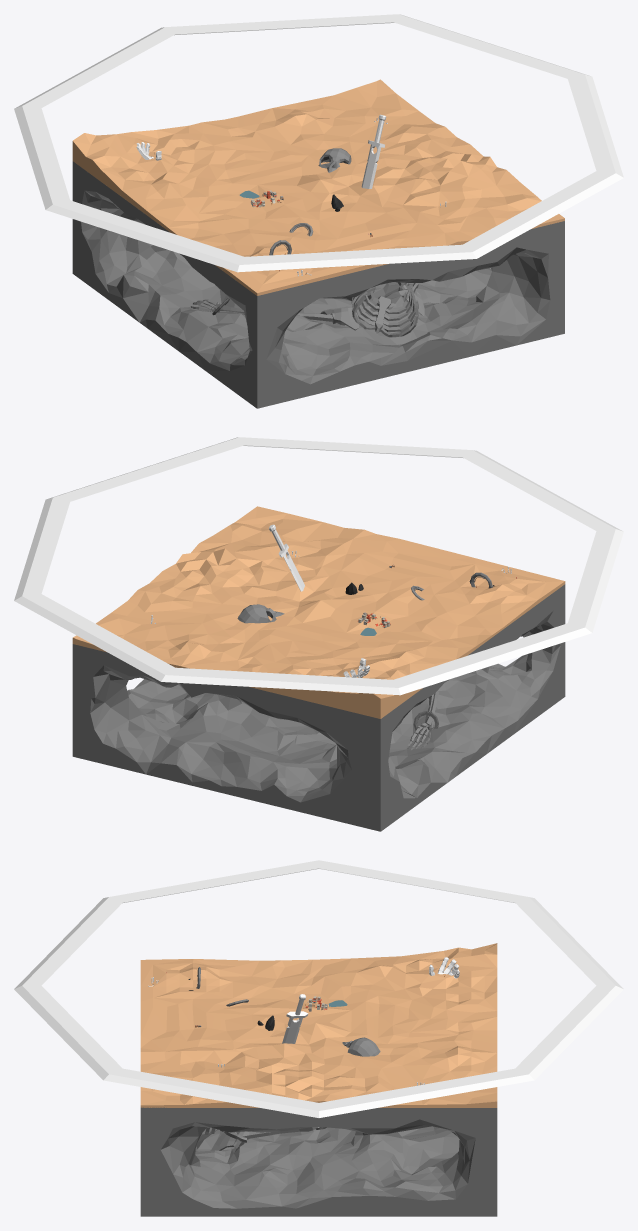
File: desert.fbx
The picture shows the model from 3 angles, top to bottom: view 1: azimuth 30°, elevation 25°; view 2: azimuth 150°, elevation 25°; view 3: azimuth 270°, elevation 25°; orthographic projection. The views are drawn at different scales.
Visible parts, largest first — view 1: Grid, Grid.002, Grid.001, torso, Cylinder.005, Cube.030; view 2: Grid.002, Grid, Grid.001, skull.002, Cylinder.005; view 3: Grid, Grid.002, Grid.001, Cube.030, skull.002.
Boxes of the visible parts, x1=… form: Grid: x1=72, y1=79, x2=564, y2=295; Grid.002: x1=72, y1=161, x2=564, y2=408; Grid.001: x1=14, y1=14, x2=623, y2=272; torso: x1=351, y1=283, x2=418, y2=337; Cylinder.005: x1=190, y1=282, x2=411, y2=325; Cube.030: x1=361, y1=114, x2=386, y2=188; Grid.002: x1=72, y1=584, x2=565, y2=831; Grid: x1=72, y1=506, x2=565, y2=718; Grid.001: x1=14, y1=437, x2=623, y2=695; skull.002: x1=237, y1=604, x2=284, y2=623; Cylinder.005: x1=406, y1=690, x2=438, y2=750; Grid: x1=140, y1=943, x2=497, y2=1107; Grid.002: x1=140, y1=1107, x2=497, y2=1216; Grid.001: x1=14, y1=860, x2=623, y2=1117; Cube.030: x1=282, y1=994, x2=308, y2=1043; skull.002: x1=342, y1=1037, x2=380, y2=1056.
Size of the model in its own units: 95535 by 30341 by 95535.
